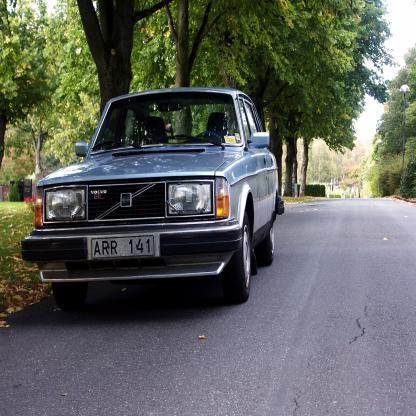vehicle: (20, 87, 284, 310)
